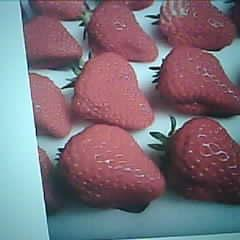straw-ripe: (60, 124, 163, 206), (167, 115, 240, 204), (74, 53, 155, 128), (162, 46, 240, 116)
